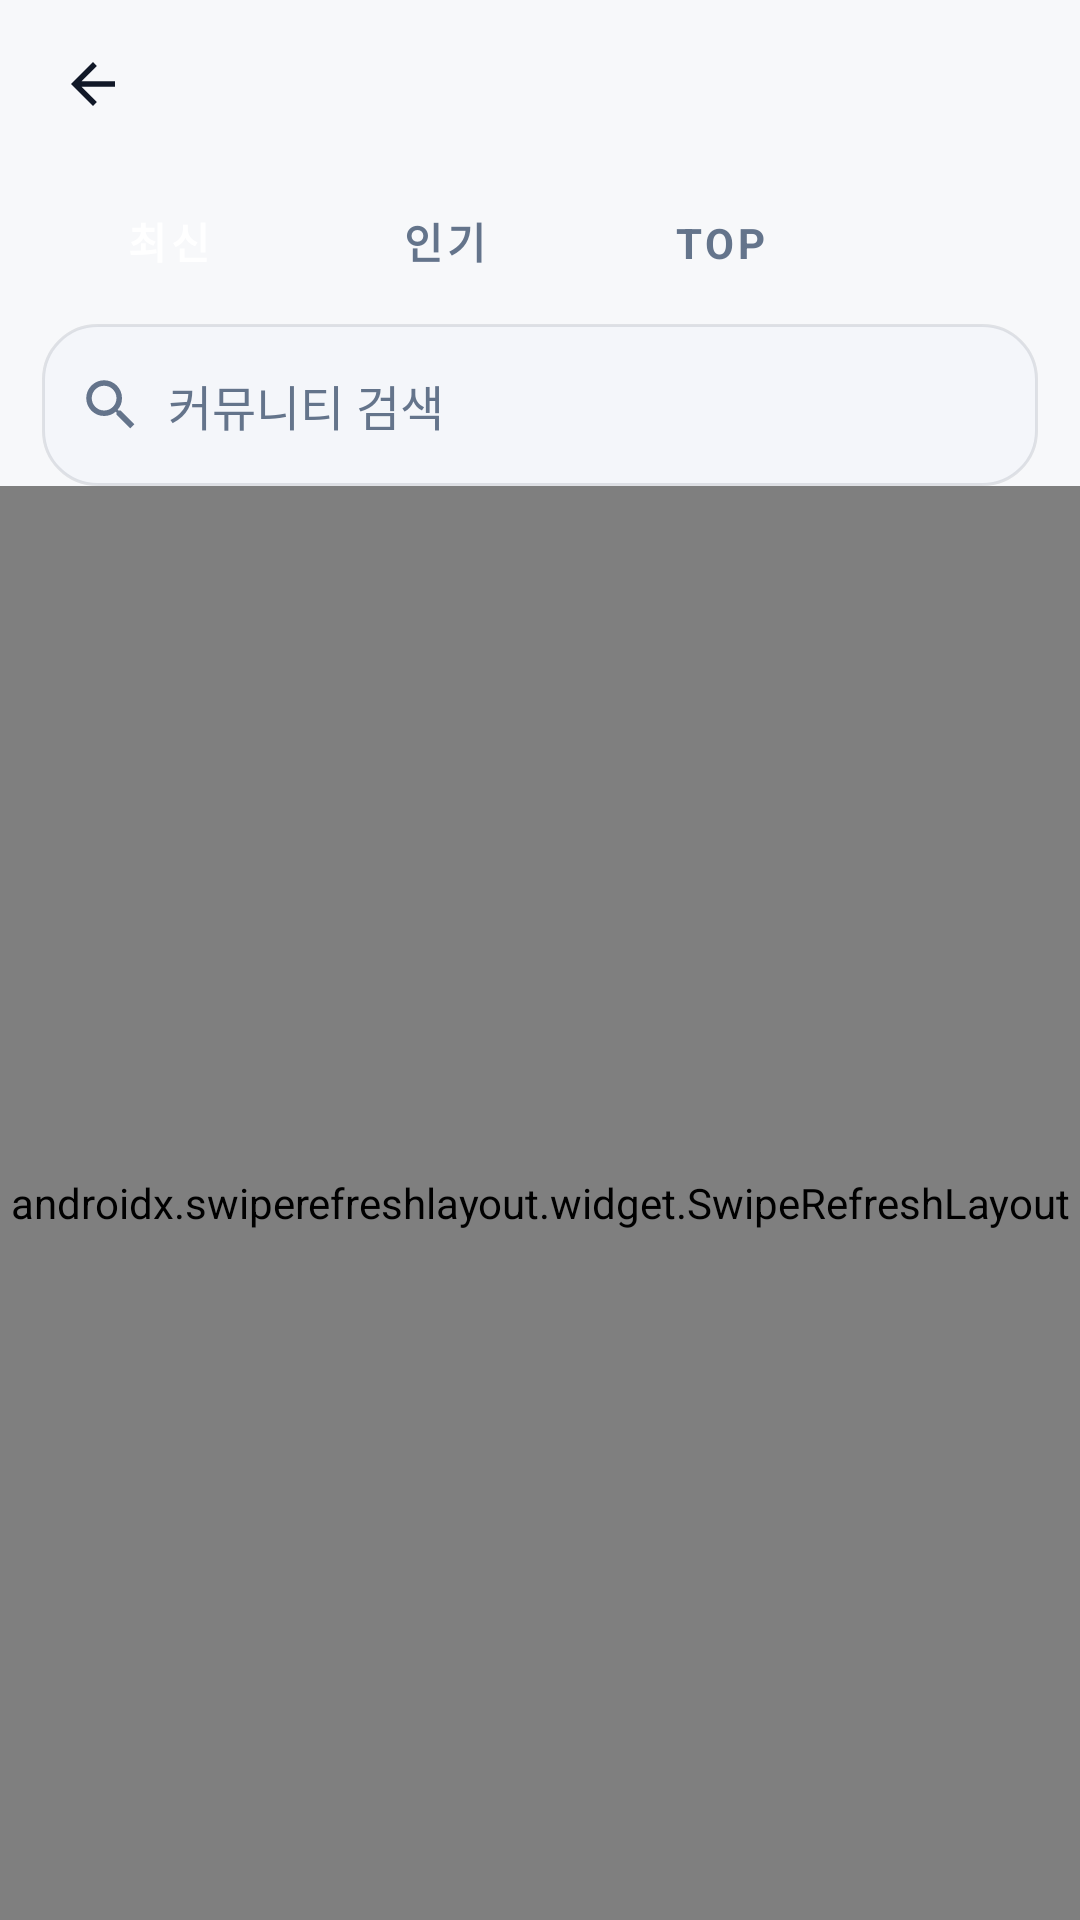

Icons on this 1080 x 1920 Android screen, each with the point to tap as point (x, y):
myblog search: point (110, 404)
커뮤니티 뒤로가기: point (93, 84)
